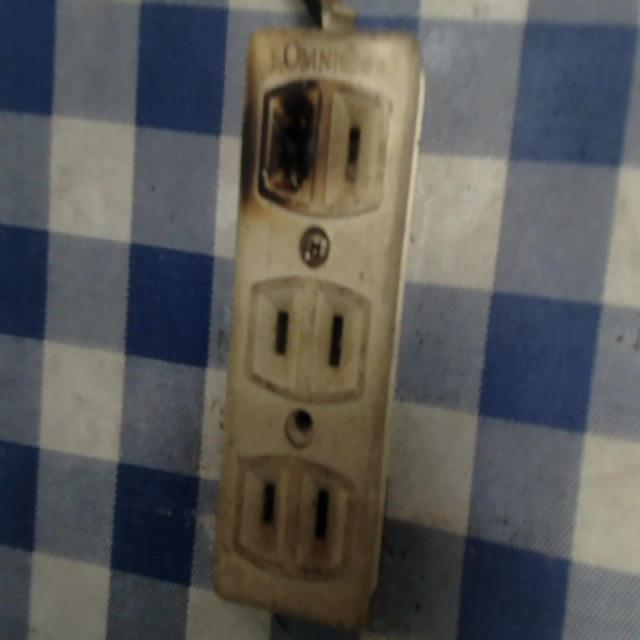-: (251, 71, 331, 208)
